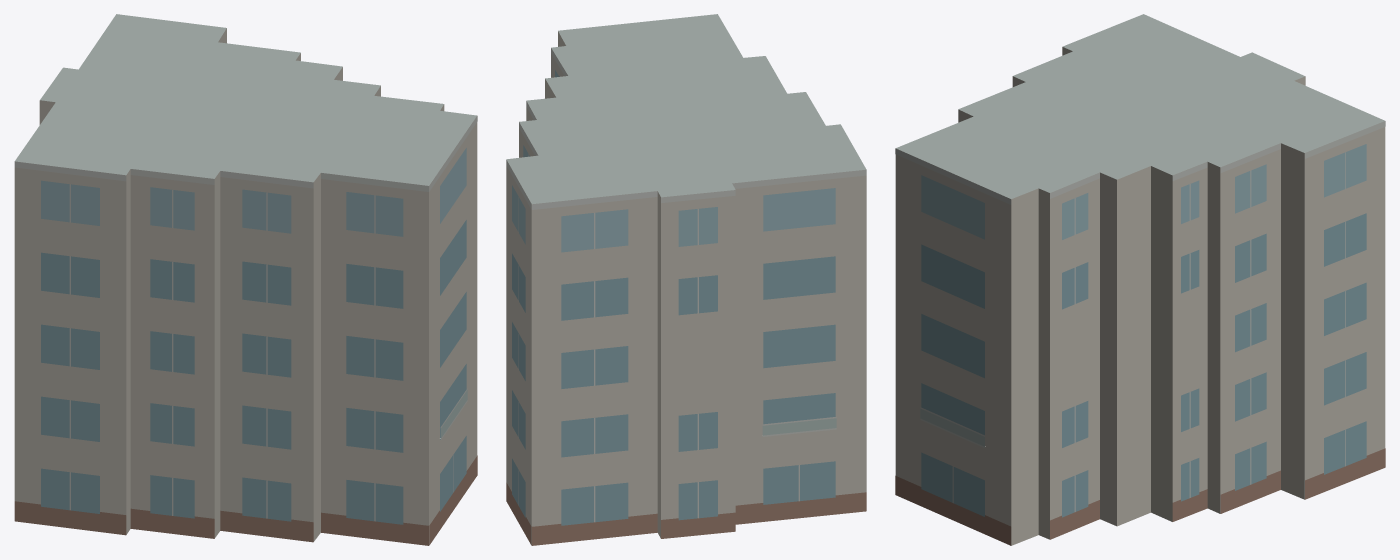
Rendered from survey-upis-32695239.glb.
3 renders of one model, left to right at view 1: azimuth 30°, elevation 25°; view 2: azimuth 150°, elevation 25°; view 3: azimuth 270°, elevation 25°, orthographic. The views are drawn at different scales.
Visible parts, largest first — view 1: survey-upis-32695239.tmp; view 2: survey-upis-32695239.tmp; view 3: survey-upis-32695239.tmp.
Part boxes in pixels (<box>): survey-upis-32695239.tmp: <box>14,14,477,545</box>; survey-upis-32695239.tmp: <box>506,14,866,545</box>; survey-upis-32695239.tmp: <box>895,14,1385,545</box>.
Bounding box in the file's own units: 16.39 × 14.3 × 18.32.
